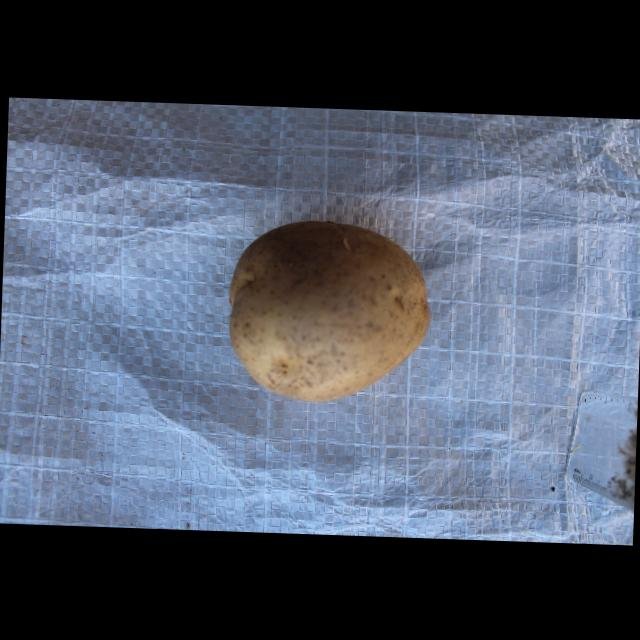Diseased-fungal potato: (220, 214, 434, 410)
